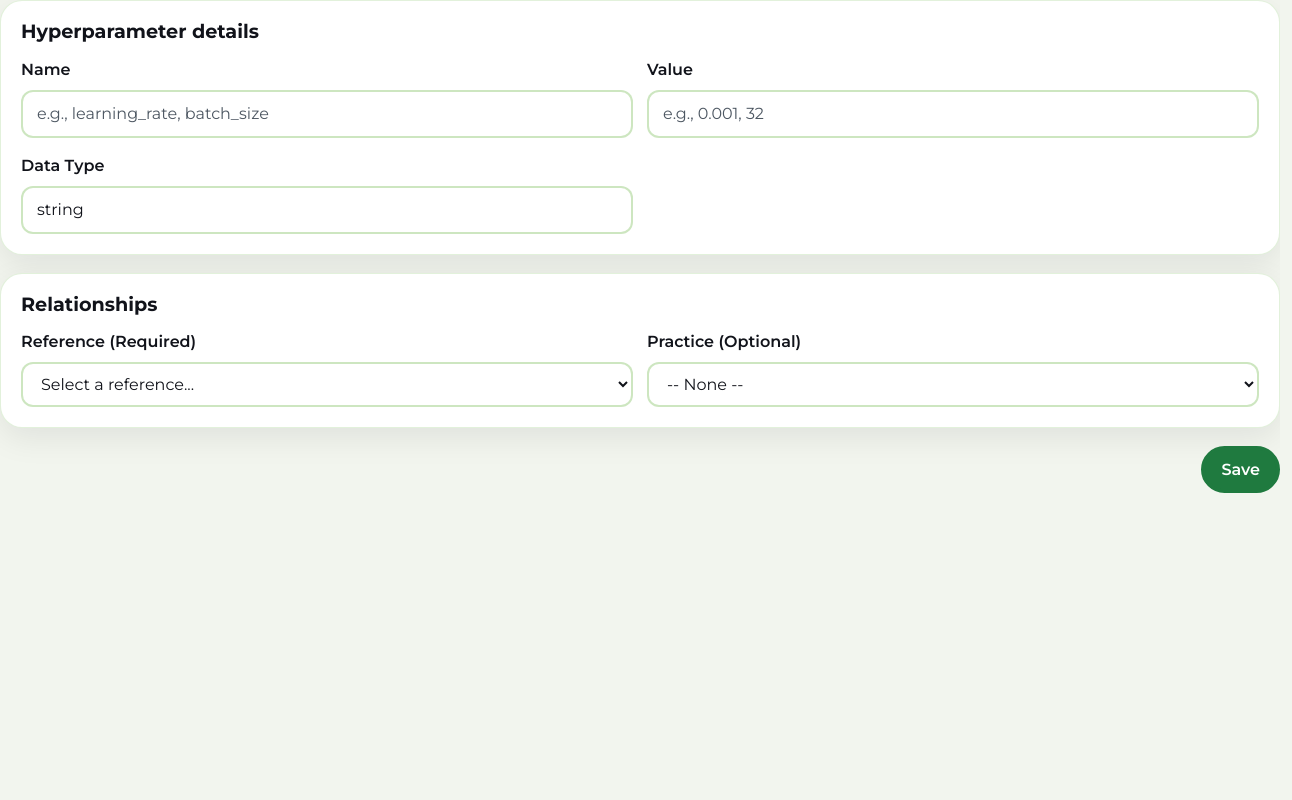
HyperparameterForm › shows error when reference is not selected on submit
The image size is (1292, 800).
Type "learning_rate" into the field labelled "Name".
click(327, 114); type("learning_rate")  # box [21, 90, 633, 138]
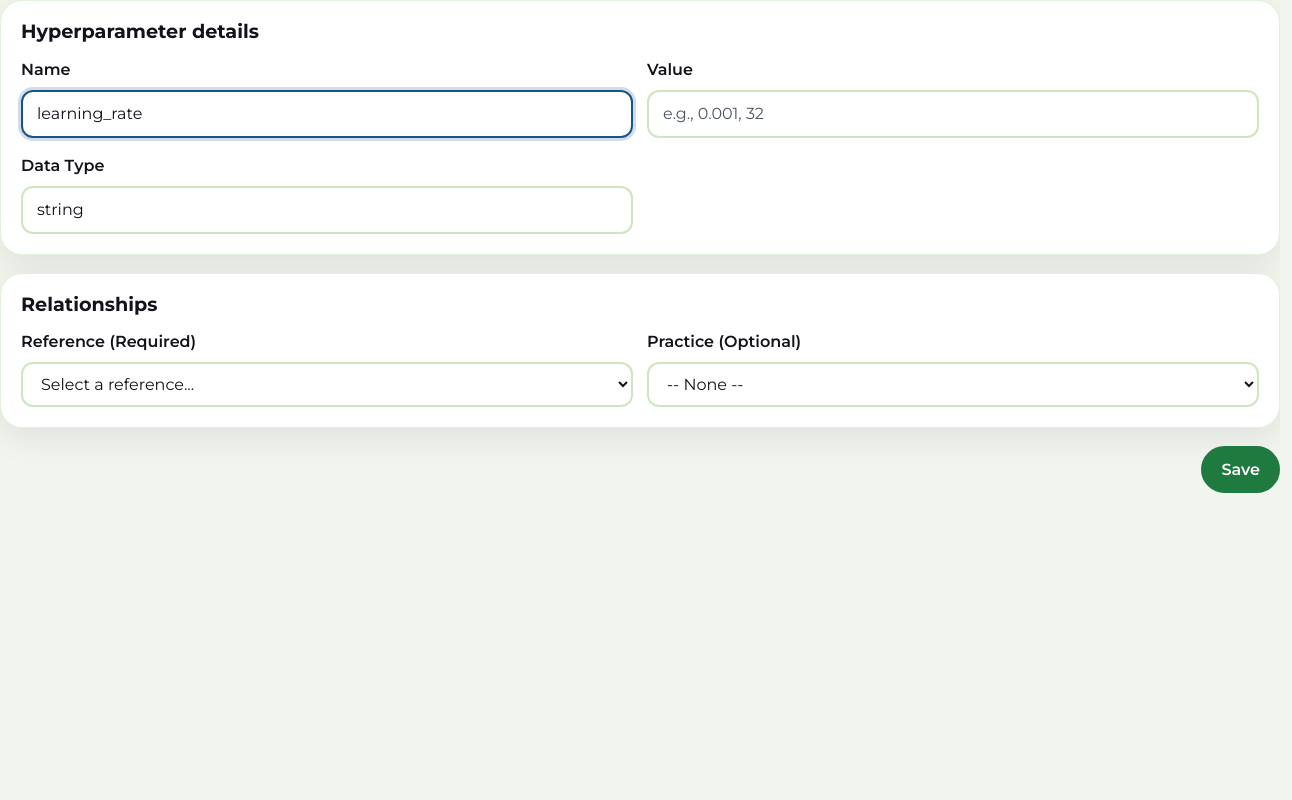
Type "0.001" into the field labelled "Value".
click(953, 114); type("0.001")  # box [647, 90, 1259, 138]
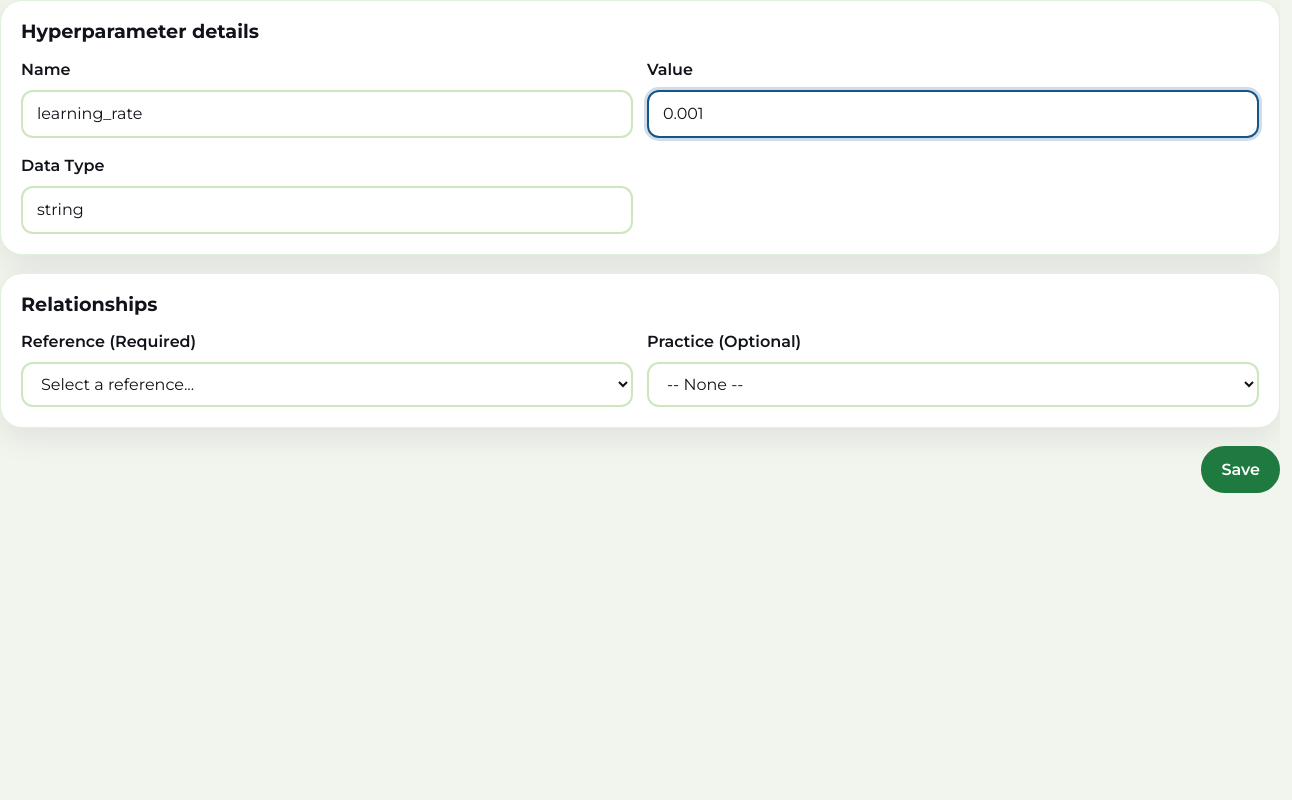
Click the button "Save".
click(1241, 470)  # box [1201, 446, 1280, 494]
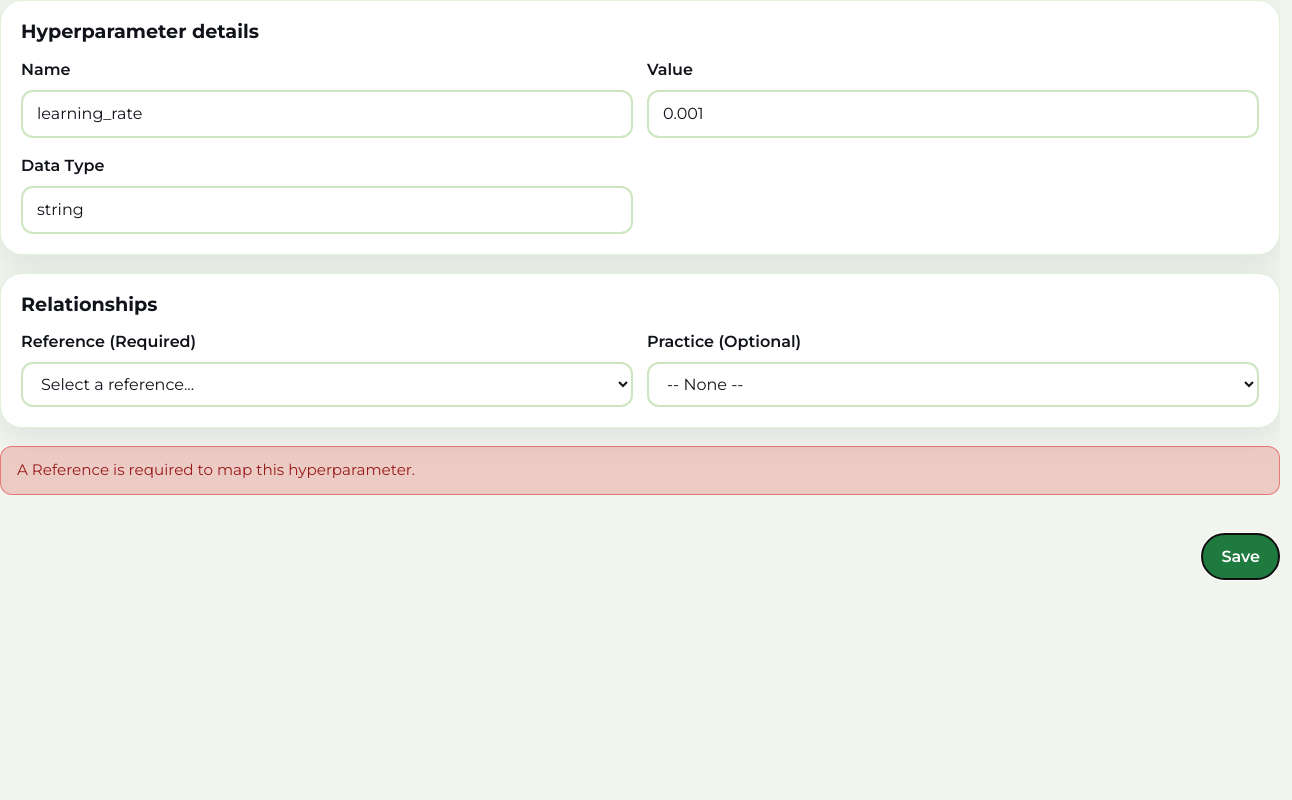
Expected: the text "A Reference is required to map this hyperparameter." is shown, [0, 446, 1280, 495]
